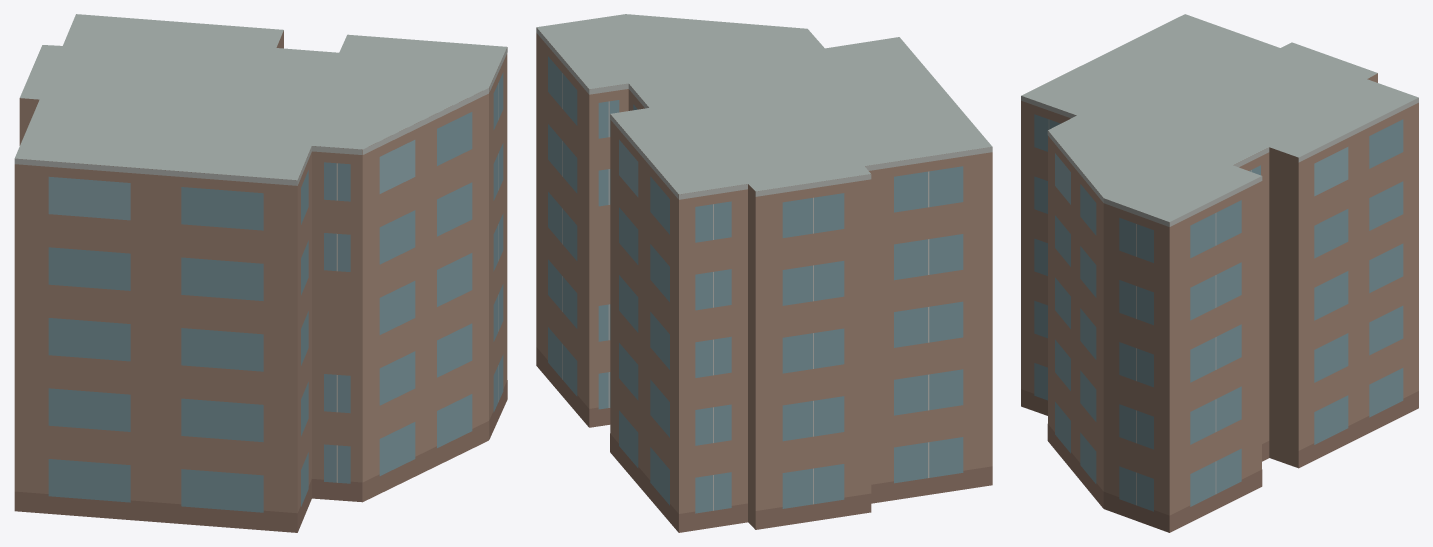
The model's file is survey-upis-32777074.glb.
3 views of the same model, side by side, from view 1: azimuth 30°, elevation 25°; view 2: azimuth 150°, elevation 25°; view 3: azimuth 270°, elevation 25° (orthographic). The views are drawn at different scales.
Visible parts, largest first — view 1: survey-upis-32777074.tmp; view 2: survey-upis-32777074.tmp; view 3: survey-upis-32777074.tmp.
Boxes of the visible parts, <box> form: survey-upis-32777074.tmp: <box>14,14,507,532</box>; survey-upis-32777074.tmp: <box>536,14,992,532</box>; survey-upis-32777074.tmp: <box>1021,14,1418,532</box>.
Size of the model in its own units: 21.92 by 15.25 by 17.7.
